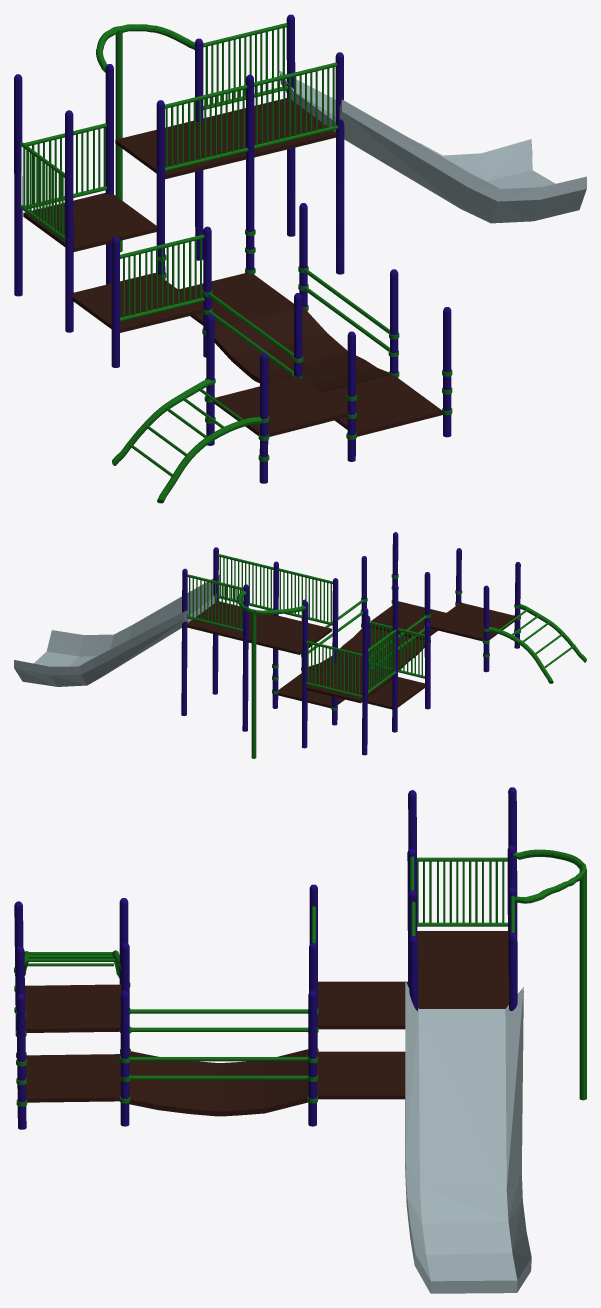
3 renders of one model, top to bottom at view 1: azimuth 30°, elevation 25°; view 2: azimuth 150°, elevation 25°; view 3: azimuth 270°, elevation 25°, orthographic. The views are drawn at different scales.
Parts seen in each view (by area): view 1: group905881478, group1613961528, group871030222, group1226028820, group1908301317, group299249815, group1811744593, group638899843, group632006999, group2011796231, group267854177, group1487250920 (+23 smaller); view 2: group905881478, group871030222, group1226028820, group1613961528, group859758212, group1180122693, group1908301317, group632006999, group638899843, group299249815, group267854177, group1487250920 (+21 smaller); view 3: group905881478, group1613961528, group871030222, group1226028820, group299249815, group1811744593, group2011796231, group1487250920, group1787619521, group1499783986, group1518409211, group1868284783 (+8 smaller).
Part boxes in pixels (x1,y1,x2,y2): group905881478: (279,70,586,223); group1613961528: (214,308,388,392); group871030222: (115,98,336,179); group1226028820: (213,377,347,436); group1908301317: (23,193,156,251); group299249815: (321,375,443,436); group1811744593: (71,273,203,332); group638899843: (254,62,338,149); group632006999: (165,85,248,171); group2011796231: (179,273,293,328); group267854177: (120,234,204,321); group1487250920: (20,142,65,240); group905881478: (14,575,219,686); group871030222: (186,601,331,654); group1226028820: (430,602,516,641); group1613961528: (308,627,424,674); group859758212: (306,640,362,697); group1180122693: (186,574,243,631); group1908301317: (306,663,392,703); group632006999: (278,568,332,625); group638899843: (217,554,273,610); group299249815: (370,601,445,640); group267854177: (369,621,424,678); group1487250920: (362,629,396,695); group905881478: (405,981,531,1293); group1613961528: (129,1049,308,1116); group871030222: (416,931,508,1008); group1226028820: (25,984,121,1032); group299249815: (25,1054,120,1102); group1811744593: (317,981,407,1029); group2011796231: (317,1051,405,1099); group1487250920: (417,857,507,926); group1787619521: (579,869,586,1100); group1499783986: (120,990,129,1126); group1518409211: (16,993,26,1129); group1868284783: (513,849,586,903).
Bounding box in the file's own units: 6.94 × 2.51 × 5.35.
